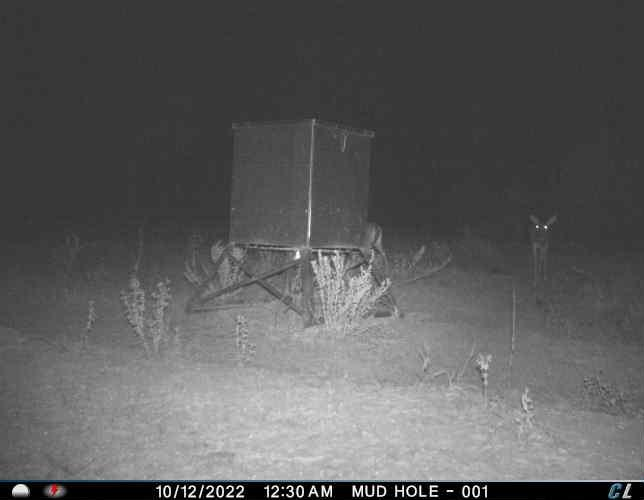Deer: (528, 212, 558, 287), (370, 220, 392, 284)
